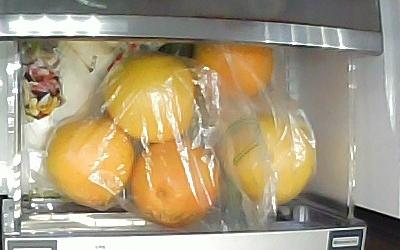grapefruit_vinyl: (220, 111, 314, 205), (102, 53, 195, 144), (47, 118, 133, 211), (134, 143, 222, 228), (193, 44, 273, 98)
